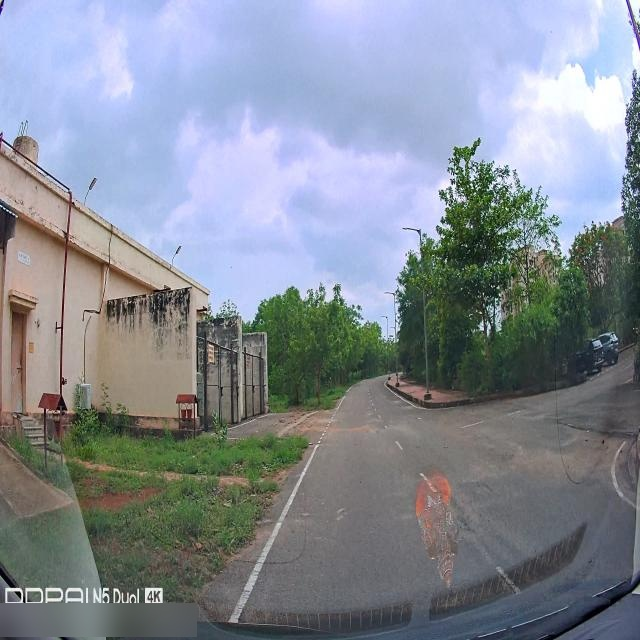pothole: (455, 509, 481, 550), (475, 478, 498, 496)
